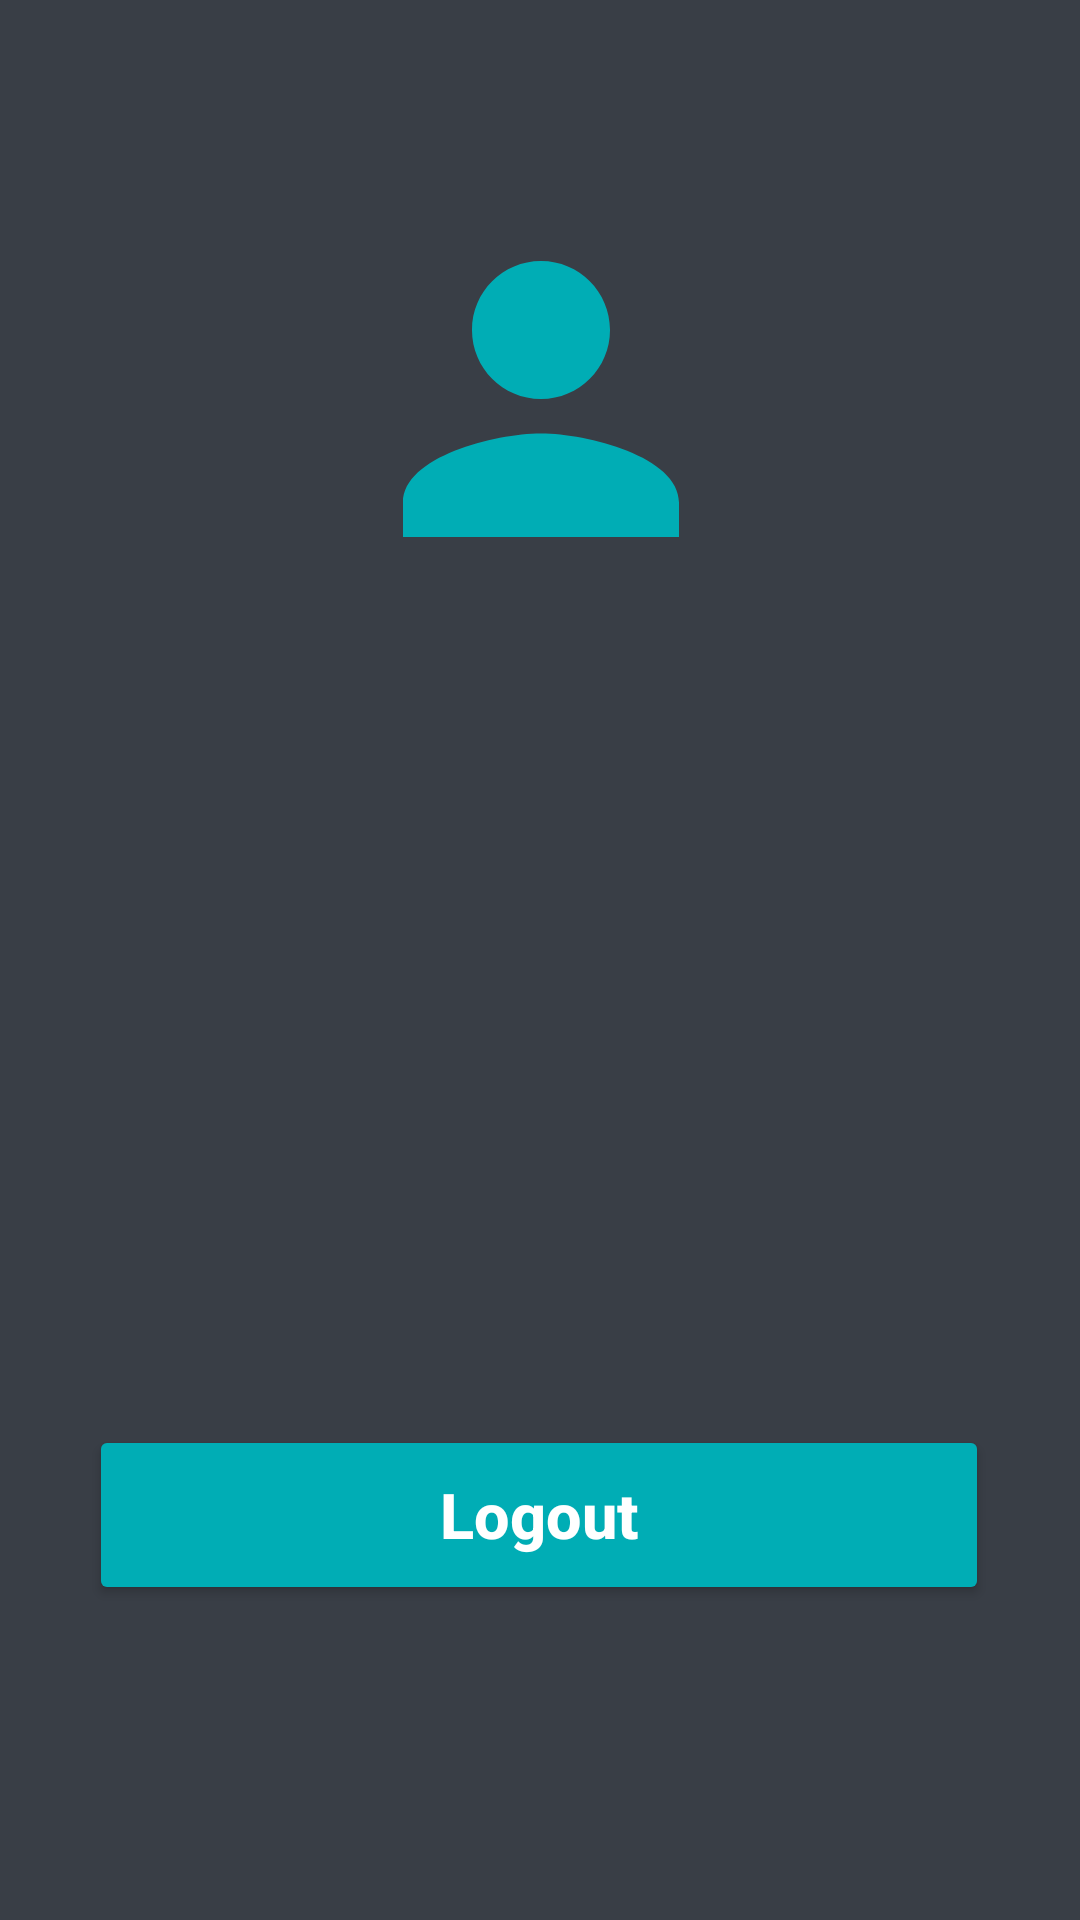

Named icons in this screenshot (1080px x 1920px) and their bounding boxes, (x1,y1,x2,y2):
person: (403,261,679,537)
